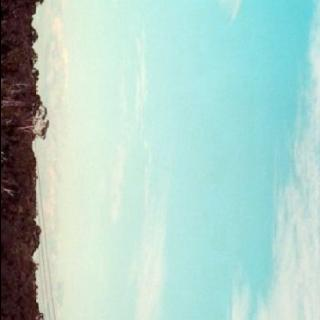Cirrocumulus: (218, 0, 320, 320)
